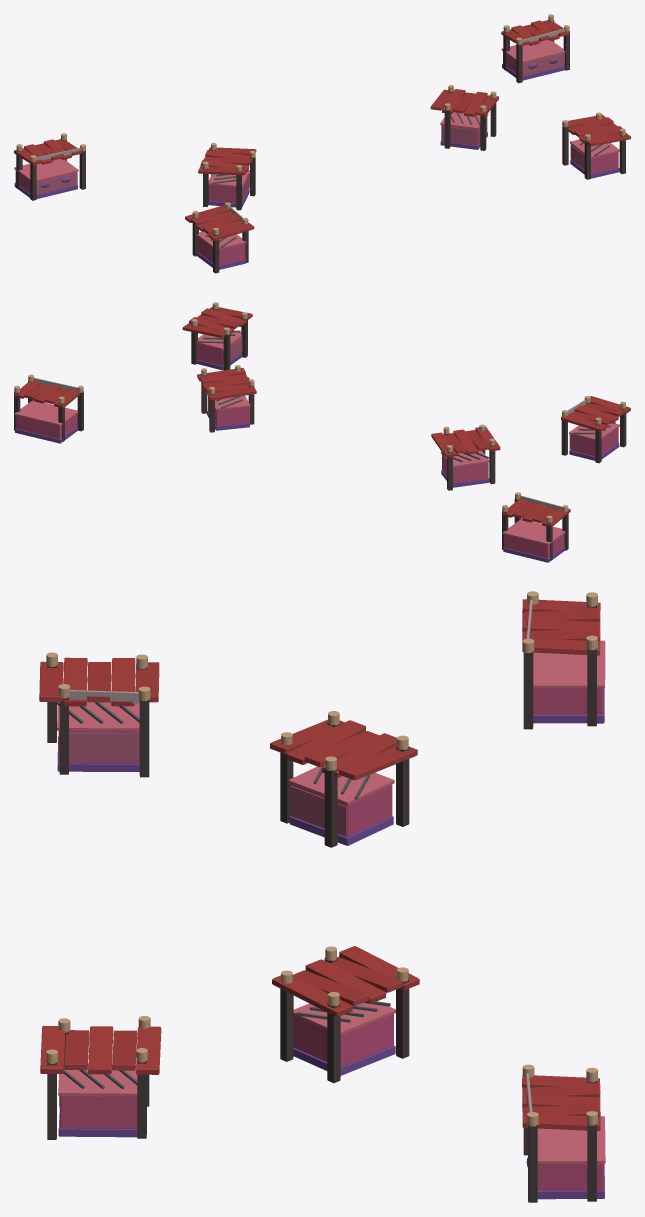
The model's file is stalls.fbx.
3 views of the same model, one above another, from view 1: azimuth 30°, elevation 25°; view 2: azimuth 150°, elevation 25°; view 3: azimuth 270°, elevation 25° (orthographic). The views are drawn at different scales.
Parts seen in each view (by area): view 1: stall_far_w_lip, stall_far_e_lip, stall_sw_body, stall_se_body, stall_nw_body, stall_ne_front, stall_far_e_front, stall_far_w_front, stall_ne_lip, stall_se_lip; view 2: stall_far_w_lip, stall_far_e_lip, stall_far_e_body, stall_far_w_body, stall_sw_body, stall_nw_body, stall_ne_body, stall_se_body, stall_nw_lip, stall_ne_plank0; view 3: stall_ne_body, stall_se_body, stall_far_w_lip, stall_far_e_lip, stall_sw_front, stall_se_lip, stall_nw_body, stall_far_w_body, stall_sw_lip, stall_nw_lip, stall_far_e_body, stall_nw_front (+30 smaller).
Part boxes in pixels (left/top/right/bottom): stall_far_w_lip: left=14, top=159, right=78, bottom=181; stall_far_e_lip: left=501, top=40, right=565, bottom=62; stall_sw_body: left=197, top=236, right=245, bottom=265; stall_se_body: left=571, top=144, right=618, bottom=174; stall_nw_body: left=208, top=184, right=236, bottom=203; stall_ne_front: left=441, top=126, right=477, bottom=144; stall_far_e_front: left=522, top=53, right=564, bottom=75; stall_far_w_front: left=36, top=172, right=77, bottom=193; stall_ne_lip: left=440, top=112, right=488, bottom=129; stall_se_lip: left=570, top=139, right=619, bottom=158; stall_far_w_lip: left=502, top=519, right=565, bottom=544; stall_far_e_lip: left=14, top=400, right=78, bottom=425; stall_far_e_body: left=15, top=414, right=77, bottom=439; stall_far_w_body: left=504, top=534, right=564, bottom=558; stall_sw_body: left=570, top=427, right=618, bottom=456; stall_nw_body: left=442, top=455, right=488, bottom=483; stall_ne_body: left=207, top=396, right=249, bottom=426; stall_se_body: left=197, top=337, right=241, bottom=366; stall_nw_lip: left=441, top=450, right=489, bottom=467; stall_ne_plank0: left=208, top=387, right=256, bottom=400; stall_ne_body: left=293, top=1014, right=393, bottom=1066; stall_se_body: left=60, top=1095, right=137, bottom=1128; stall_far_w_lip: left=533, top=640, right=605, bottom=688; stall_far_e_lip: left=537, top=1116, right=605, bottom=1163; stall_sw_front: left=69, top=732, right=138, bottom=762; stall_se_lip: left=58, top=1064, right=137, bottom=1096; stall_nw_body: left=291, top=784, right=392, bottom=837; stall_far_w_body: left=533, top=688, right=603, bottom=714; stall_sw_lip: left=57, top=702, right=139, bottom=730; stall_nw_lip: left=289, top=766, right=394, bottom=805; stall_far_e_body: left=537, top=1164, right=603, bottom=1190; stall_nw_front: left=290, top=785, right=346, bottom=835.
Size of the model in its own units: 5881 by 450 by 2675.
